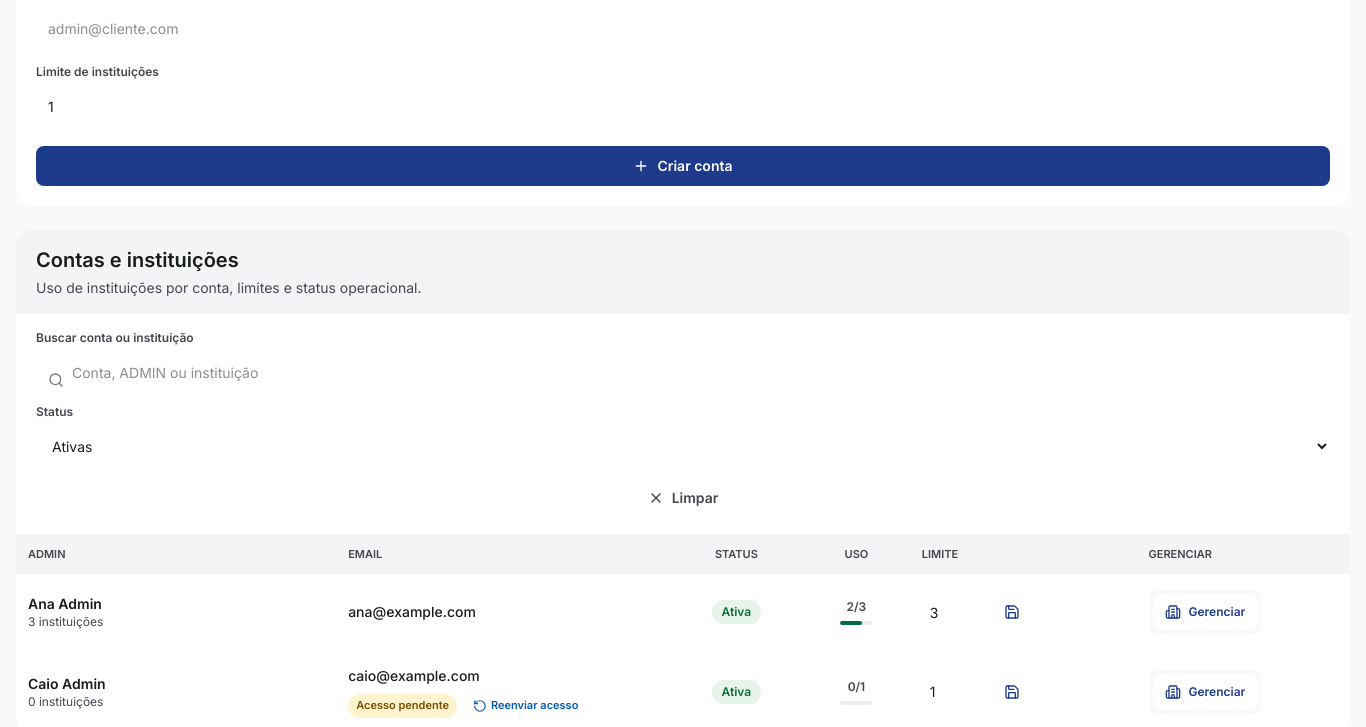
Test case: PlatformPage › mostra erro de conta inválida sem mascará-lo como erro de senha
This screenshot has width=1366, height=727.
(page scrolled)
Click the button with aria-label "Gerenciar escolas e ações de Conta Alfa" at (1205, 612), box [1152,594,1257,630]
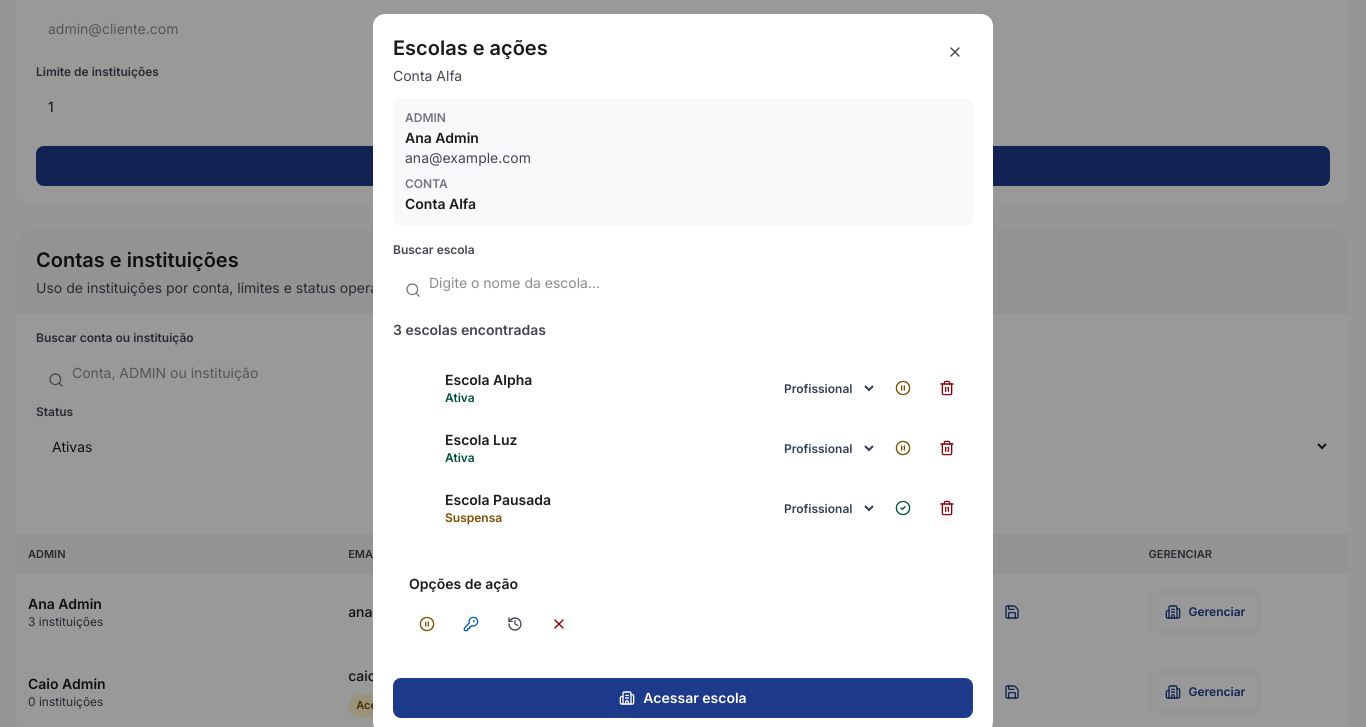
Click the button named "Alterar login/senha" at (471, 624), box [453,606,489,642]
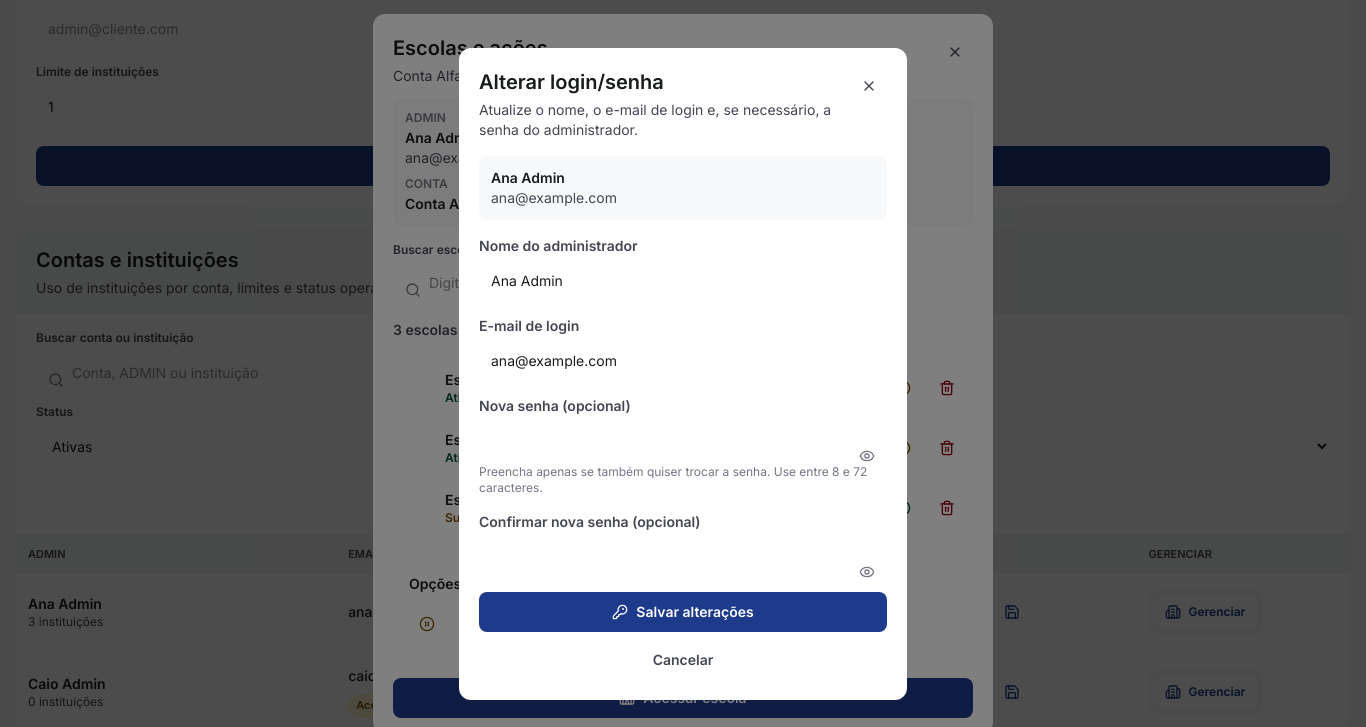
Type "ValidPass123!" into the password field labelled "Nova senha (opcional)" at (683, 440), box [479,420,887,460]
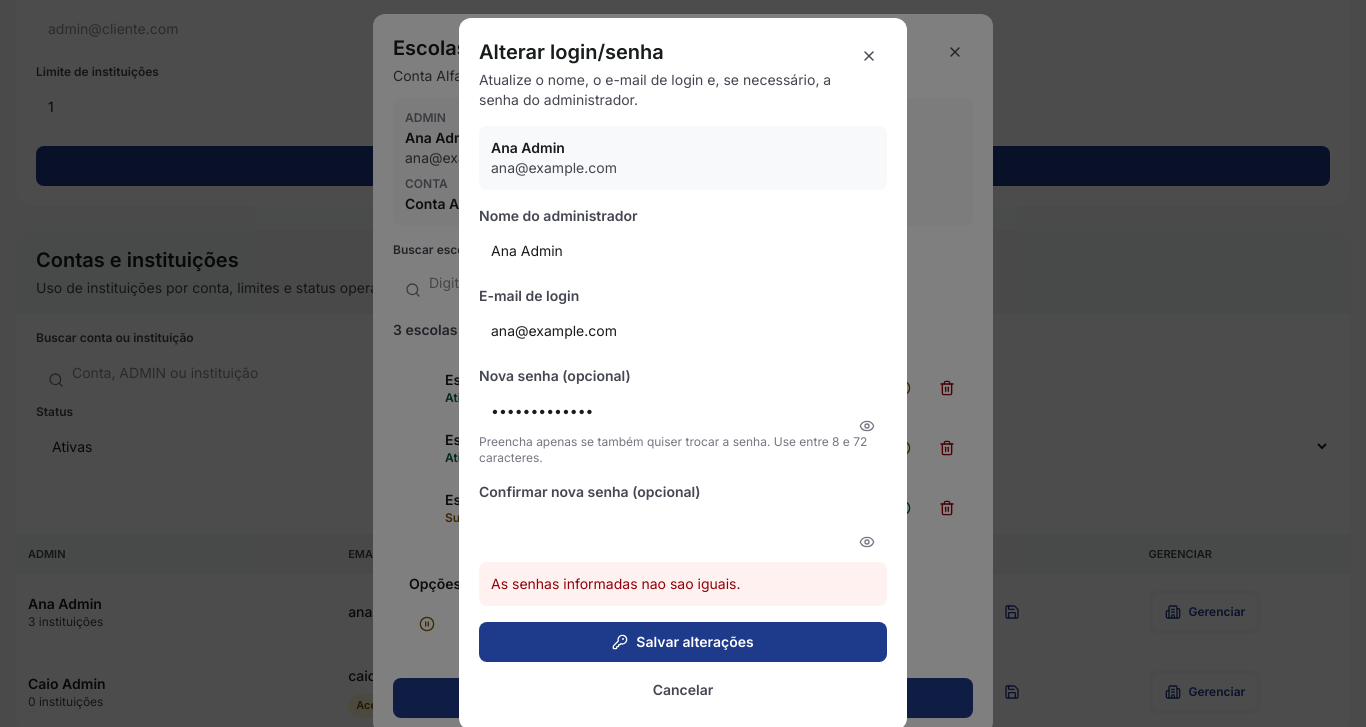
Type "ValidPass123!" into the password field labelled "Confirmar nova senha (opcional)" at (683, 526), box [479,506,887,546]
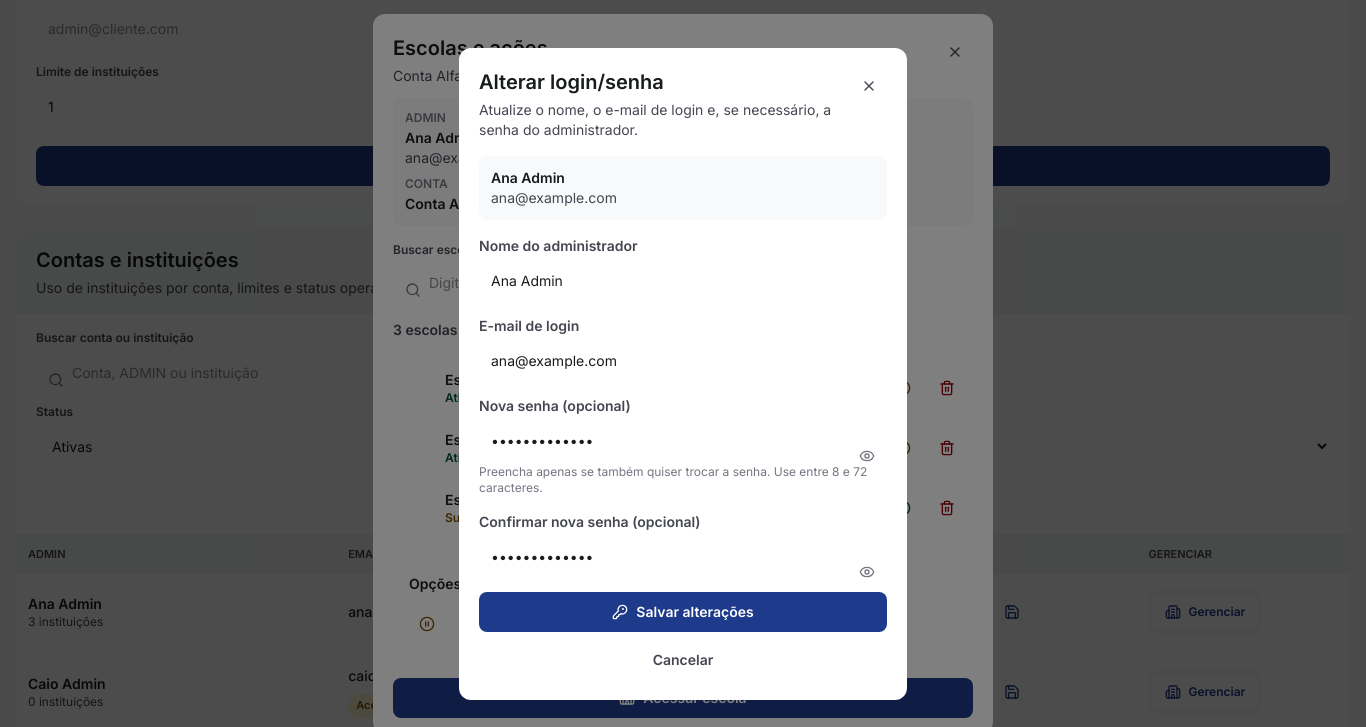
Click the button "Salvar alterações" at (683, 612), box [479,592,887,632]
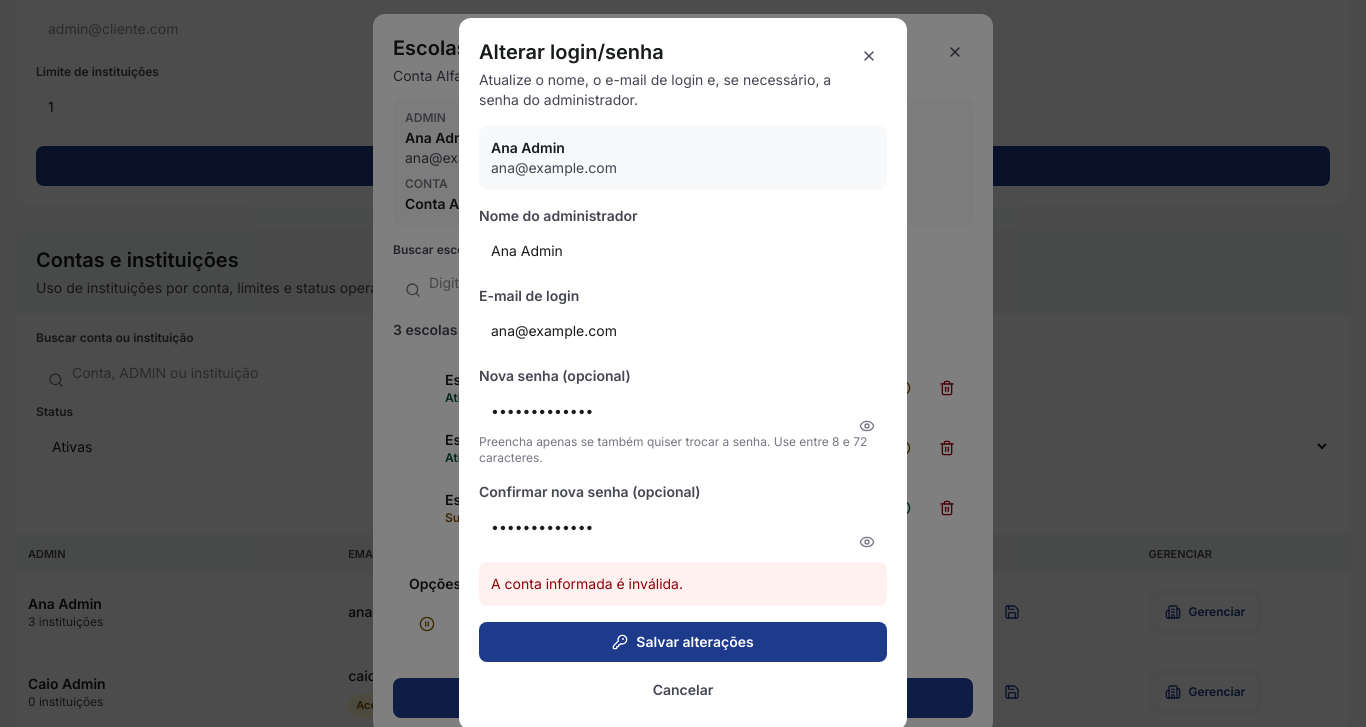
Check: the message reads "A conta informada é inválida.", box [491,575,683,592]
